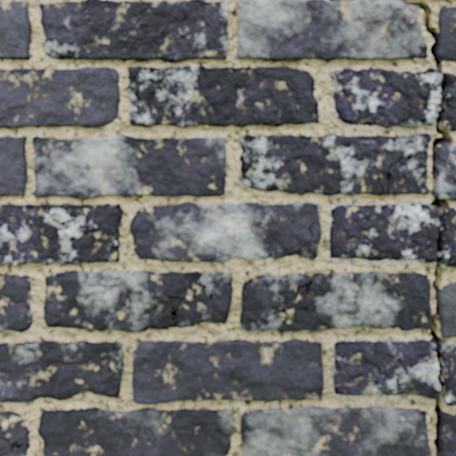brick: (132, 339, 323, 403), (33, 135, 225, 197), (239, 133, 430, 194), (128, 65, 318, 126), (40, 0, 227, 61), (238, 0, 426, 60), (44, 271, 231, 331), (130, 202, 320, 261), (240, 272, 430, 330), (39, 407, 232, 455), (241, 407, 430, 455), (0, 203, 122, 264), (0, 341, 122, 402), (0, 67, 119, 126), (0, 274, 31, 331), (0, 2, 31, 58), (0, 137, 26, 194), (0, 411, 29, 455), (436, 145, 455, 199), (438, 7, 455, 60), (439, 283, 455, 336), (439, 412, 455, 455), (0, 440, 8, 452)
broken_brick: (329, 67, 441, 127), (329, 203, 439, 262), (333, 338, 439, 399), (442, 207, 455, 267), (443, 71, 455, 130), (444, 344, 455, 406)
crack: (404, 2, 454, 455), (368, 149, 414, 195), (161, 68, 185, 106), (296, 220, 321, 252), (133, 66, 147, 109), (46, 138, 58, 173), (0, 436, 21, 455), (159, 51, 183, 59), (31, 136, 38, 142), (328, 0, 339, 2), (21, 327, 25, 331)
